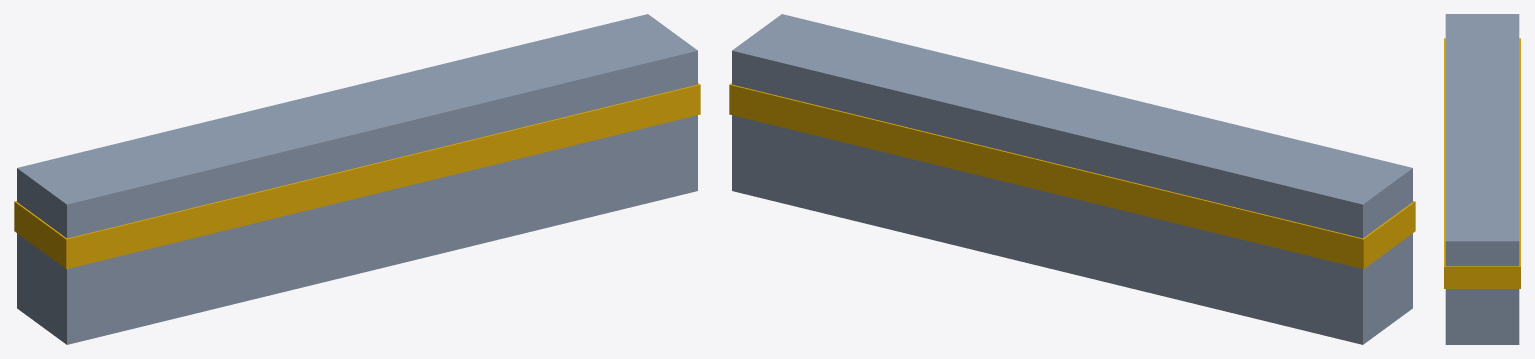
The model's file is jersey_wall.glb.
3 renders of one model, left to right at view 1: azimuth 30°, elevation 25°; view 2: azimuth 150°, elevation 25°; view 3: azimuth 270°, elevation 25°, orthographic. The views are drawn at different scales.
Visible parts, largest first — view 1: JerseyWall; view 2: JerseyWall; view 3: JerseyWall.
Boxes of the visible parts, x1,y1,x2,y2 form: JerseyWall: [14, 14, 700, 344]; JerseyWall: [729, 14, 1415, 344]; JerseyWall: [1444, 14, 1520, 344].
Size of the model in its own units: 4.02 by 0.85 by 0.57.
